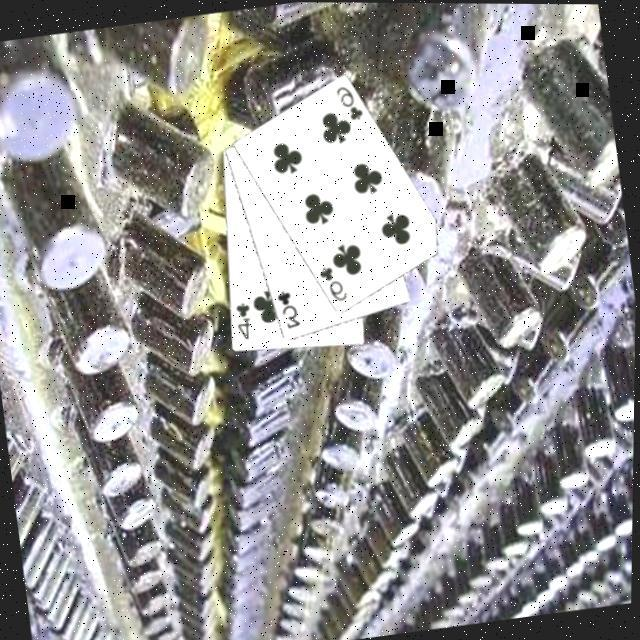3C: (272, 288, 304, 334)
4C: (230, 300, 258, 345)
6C: (315, 263, 351, 308), (331, 82, 367, 127)
